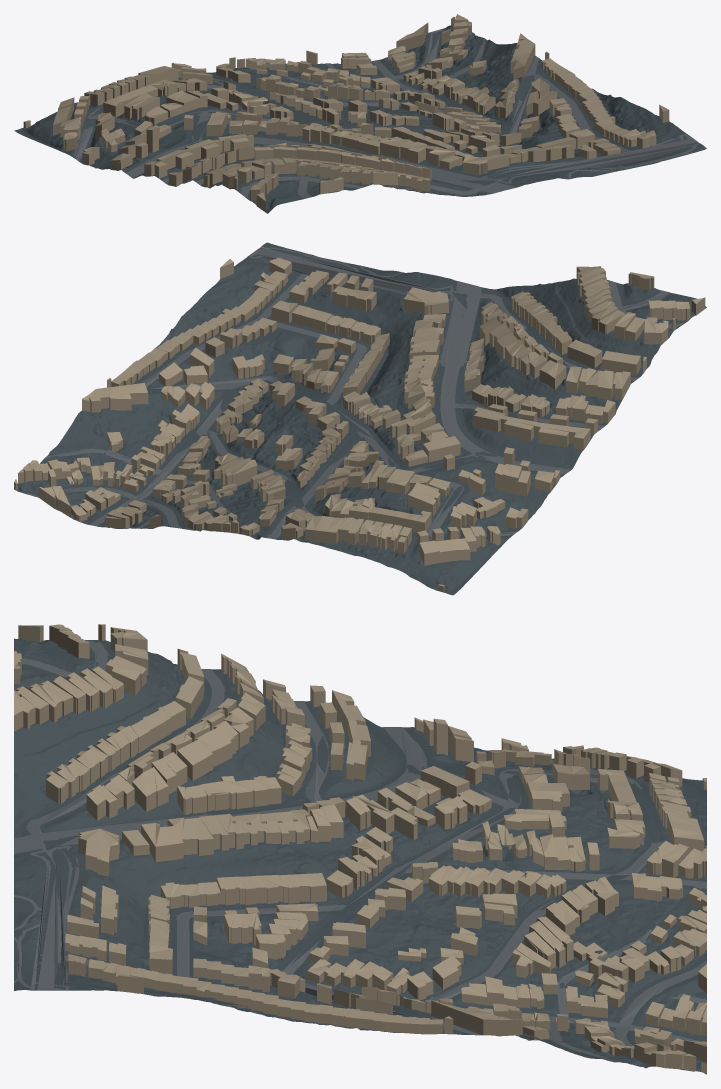
File: epsg26910-1431-10877.lod0.glb
3 renders of one model, top to bottom at view 1: azimuth 30°, elevation 25°; view 2: azimuth 150°, elevation 25°; view 3: azimuth 270°, elevation 25°, orthographic. The views are drawn at different scales.
Parts seen in each view (by area): view 1: epsg26910-1431-10877-lod0; view 2: epsg26910-1431-10877-lod0; view 3: epsg26910-1431-10877-lod0.
Part boxes in pixels (<box>): epsg26910-1431-10877-lod0: <box>14,14,706,213</box>; epsg26910-1431-10877-lod0: <box>14,242,706,595</box>; epsg26910-1431-10877-lod0: <box>14,624,706,1074</box>.
Size of the model in its own units: 384 by 116 by 384.
